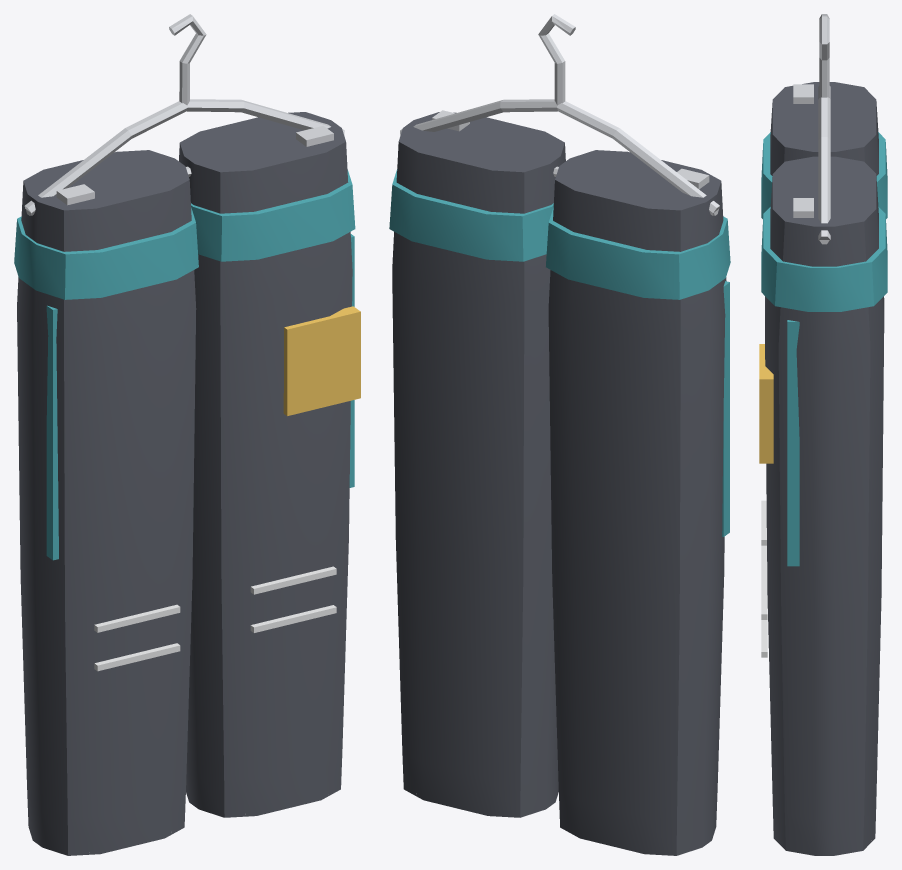
Rendered from snowboard-gear-and-freestyle-riders-shell-pants-on-han-91af70f0__27163.glb.
3 views of the same model, side by side, from view 1: azimuth 30°, elevation 25°; view 2: azimuth 150°, elevation 25°; view 3: azimuth 270°, elevation 25° (orthographic). The views are drawn at different scales.
Parts seen in each view (by area): view 1: shell-pants-on-hanger; view 2: shell-pants-on-hanger; view 3: shell-pants-on-hanger.
Part boxes in pixels (x1,y1,x2,y2): shell-pants-on-hanger: (14,14,360,855); shell-pants-on-hanger: (389,14,730,855); shell-pants-on-hanger: (759,14,887,855).
Bounding box in the file's own units: 0.3447 × 0.8221 × 0.124.
